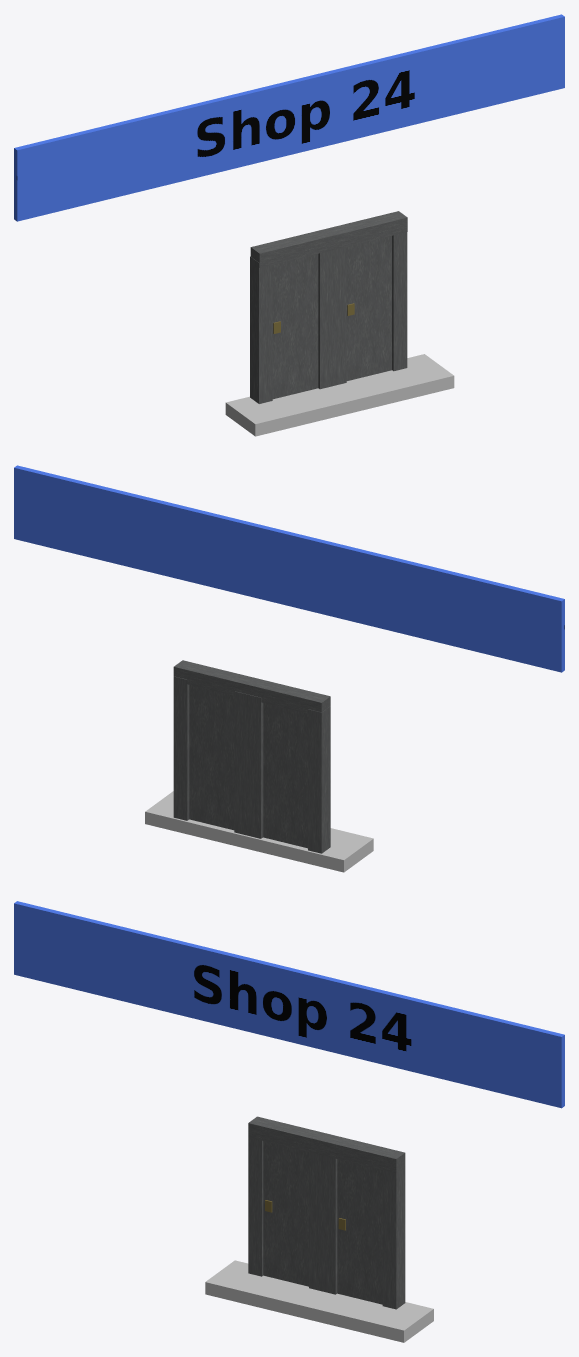
File: sign4.obj
3 renders of one model, top to bottom at view 1: azimuth 30°, elevation 25°; view 2: azimuth 150°, elevation 25°; view 3: azimuth 330°, elevation 25°, orthographic.
Visible parts, largest first — view 1: sign2_sign2_Material.001, door1_door1_Nuovo.003, door1_door1_None.002; view 2: sign2_sign2_Material.001, door1_door1_Nuovo.003, door1_door1_None.002; view 3: sign2_sign2_Material.001, door1_door1_Nuovo.003, door1_door1_None.002.
Part boxes in pixels (x1,y1,x2,y2): sign2_sign2_Material.001: (14, 14, 564, 221); door1_door1_Nuovo.003: (250, 211, 407, 403); door1_door1_None.002: (225, 354, 454, 436); sign2_sign2_Material.001: (14, 465, 564, 672); door1_door1_Nuovo.003: (173, 660, 330, 853); door1_door1_None.002: (145, 791, 373, 872); sign2_sign2_Material.001: (14, 901, 564, 1108); door1_door1_Nuovo.003: (248, 1116, 405, 1309); door1_door1_None.002: (205, 1260, 433, 1342).
Bounding box in the file's own units: 8.04 × 4.51 × 0.7557.
4 materials, 2 textured.
